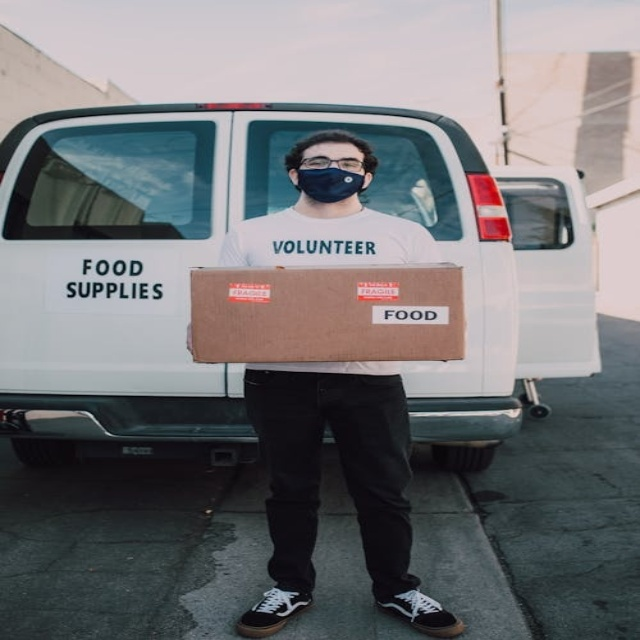Gafas: (298, 157, 367, 172)
Mascara: (295, 167, 365, 203)
